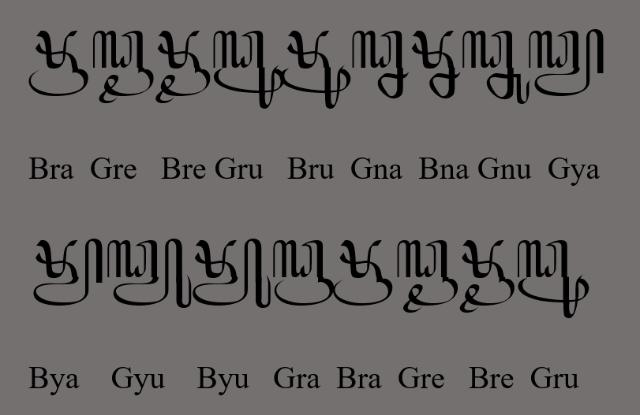Bn: (411, 30, 461, 98)
Br: (332, 240, 393, 308), (28, 29, 88, 97)
Bre: (154, 29, 212, 103), (459, 239, 515, 315)
Bru: (281, 28, 351, 110)
By: (32, 238, 104, 308)
Byu: (192, 238, 272, 309)
Gn: (350, 30, 410, 100)
Gnu: (461, 29, 531, 105)
Gr: (272, 239, 334, 307)
Gre: (92, 29, 154, 104), (397, 240, 458, 314)
Gru: (518, 239, 590, 320), (212, 31, 284, 109)
Gy: (528, 29, 604, 97)
Gyu: (106, 238, 192, 308)
